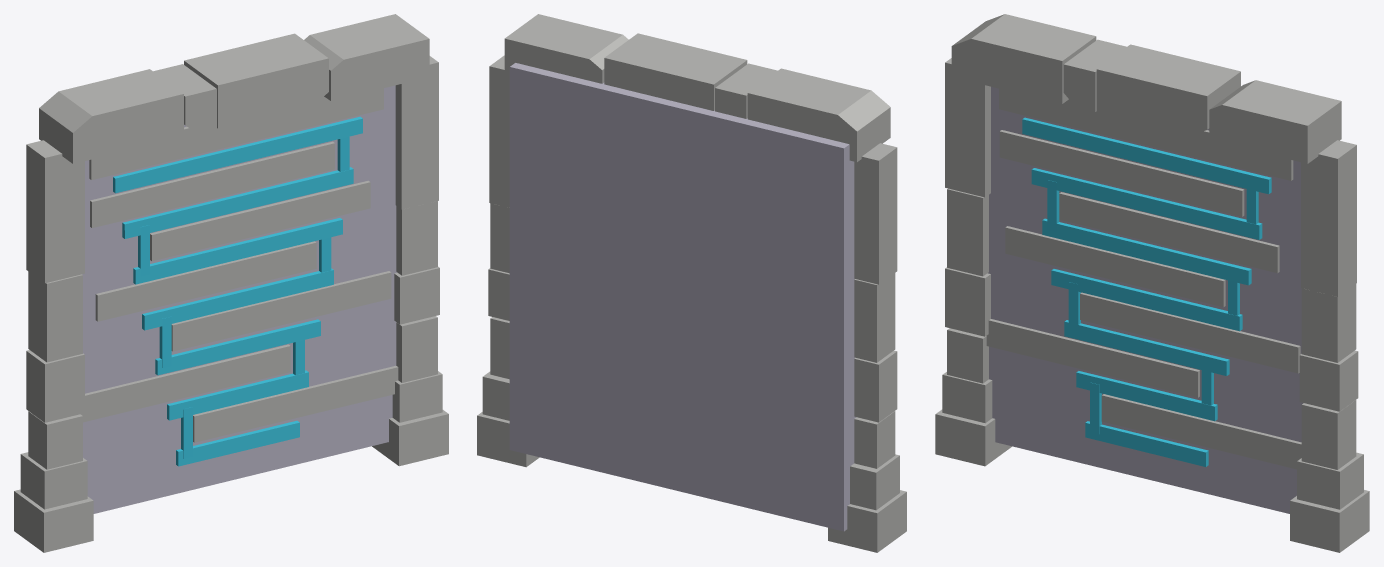
File: SM_Puerta_Ruinas_02.fbx
3 views of the same model, side by side, from view 1: azimuth 30°, elevation 25°; view 2: azimuth 150°, elevation 25°; view 3: azimuth 330°, elevation 25° (orthographic).
Visible parts, largest first — view 1: Cube.1921, Plane.5611; view 2: Cube.1921; view 3: Cube.1921, Plane.5611.
Part boxes in pixels (x1,y1,x2,y2): Cube.1921: (14, 14, 448, 552); Plane.5611: (113, 116, 362, 466); Cube.1921: (477, 14, 906, 552); Cube.1921: (935, 14, 1369, 552); Plane.5611: (1022, 117, 1271, 466).
Size of the model in its own units: 430 by 438 by 72.95.
